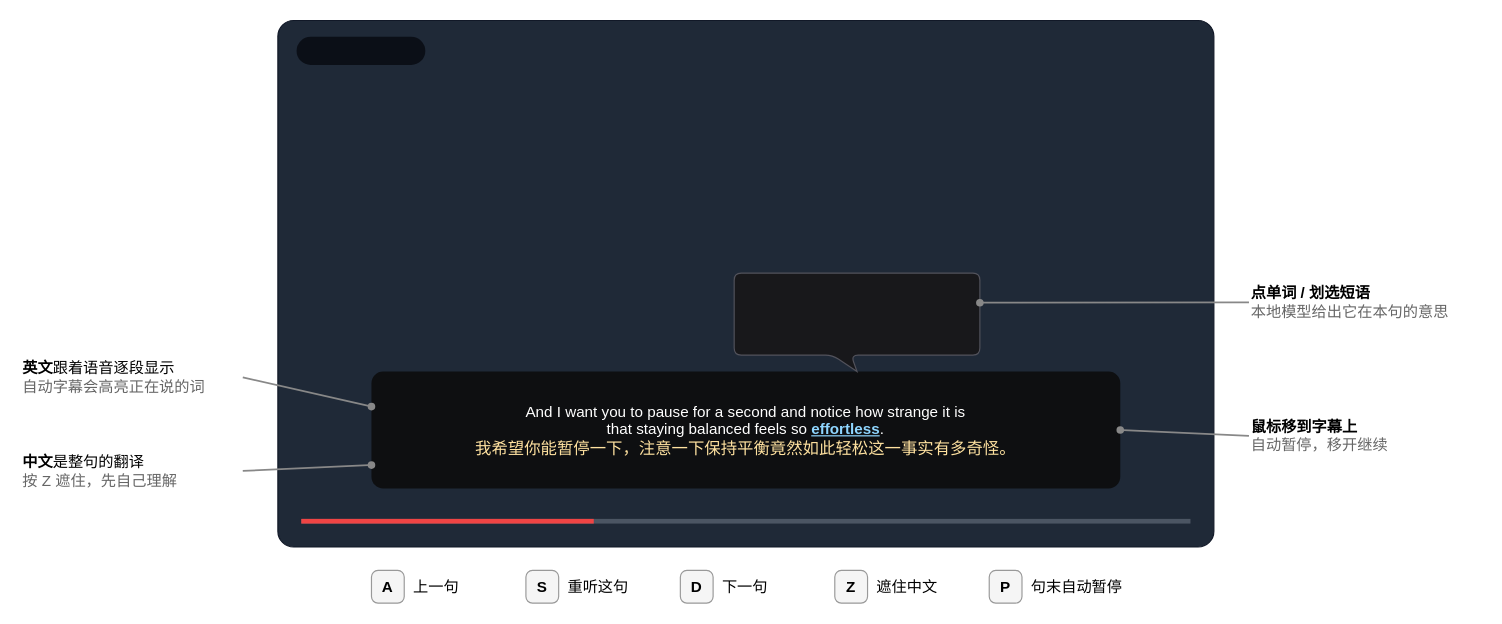
Some shapes in this 1502 by 624 pixel diagram are drawn without their labels. The centre of each missing label's shape, as x and y in pixels:
effortless 在本句中：毫不费力: the point at 856,321
翻译中 42/150: the point at 360,50
